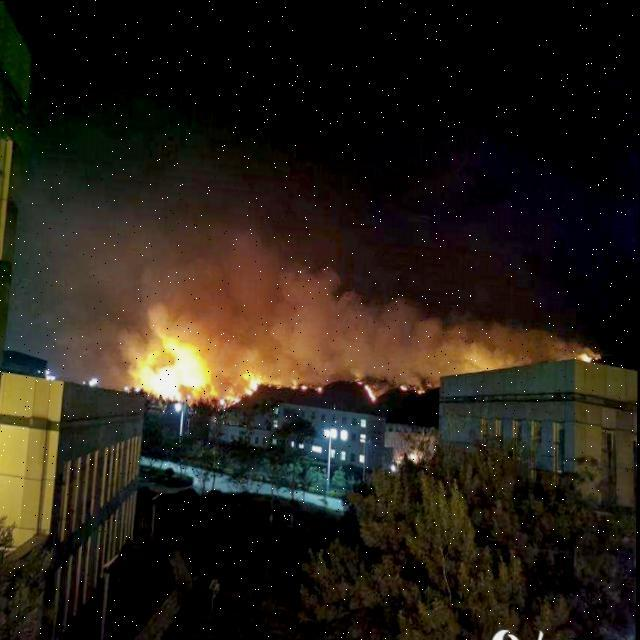Fire: (131, 326, 230, 404)
